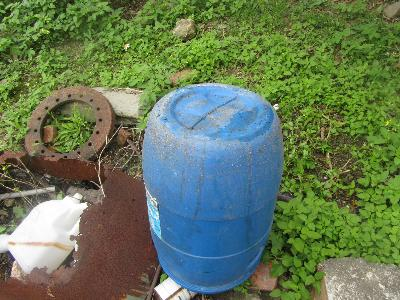bucket: (141, 80, 288, 295)
